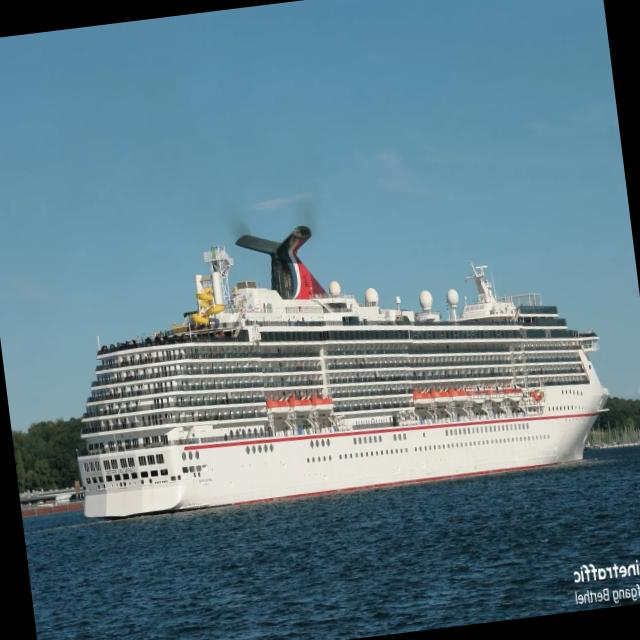Cruise: (77, 226, 608, 517)
